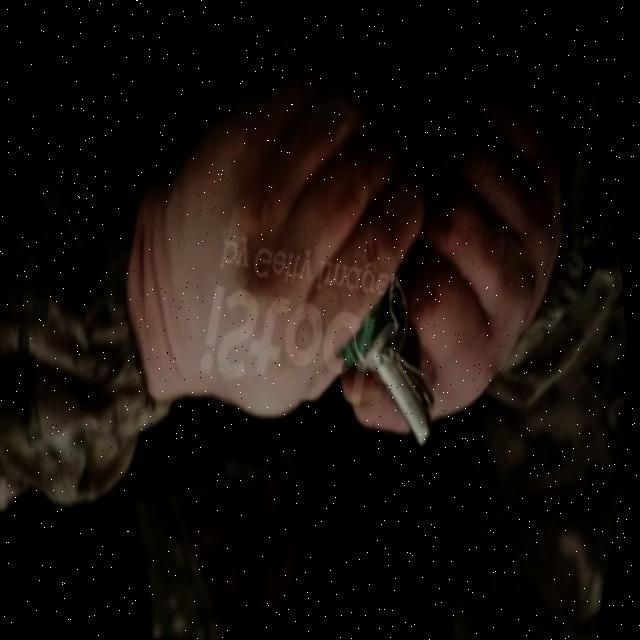grenade: (326, 268, 483, 459)
